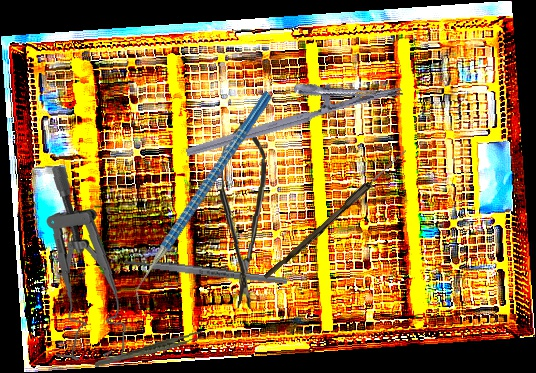Chopper: (79, 89, 328, 312)
Micro Scissor: (216, 121, 268, 310)
Needle Holder: (176, 55, 404, 159)
Scalpel Handle: (123, 256, 288, 287)
Speculum: (39, 165, 135, 363)
Surgical Spoon: (263, 146, 409, 283)
Tissue Forceps: (92, 330, 207, 368)
